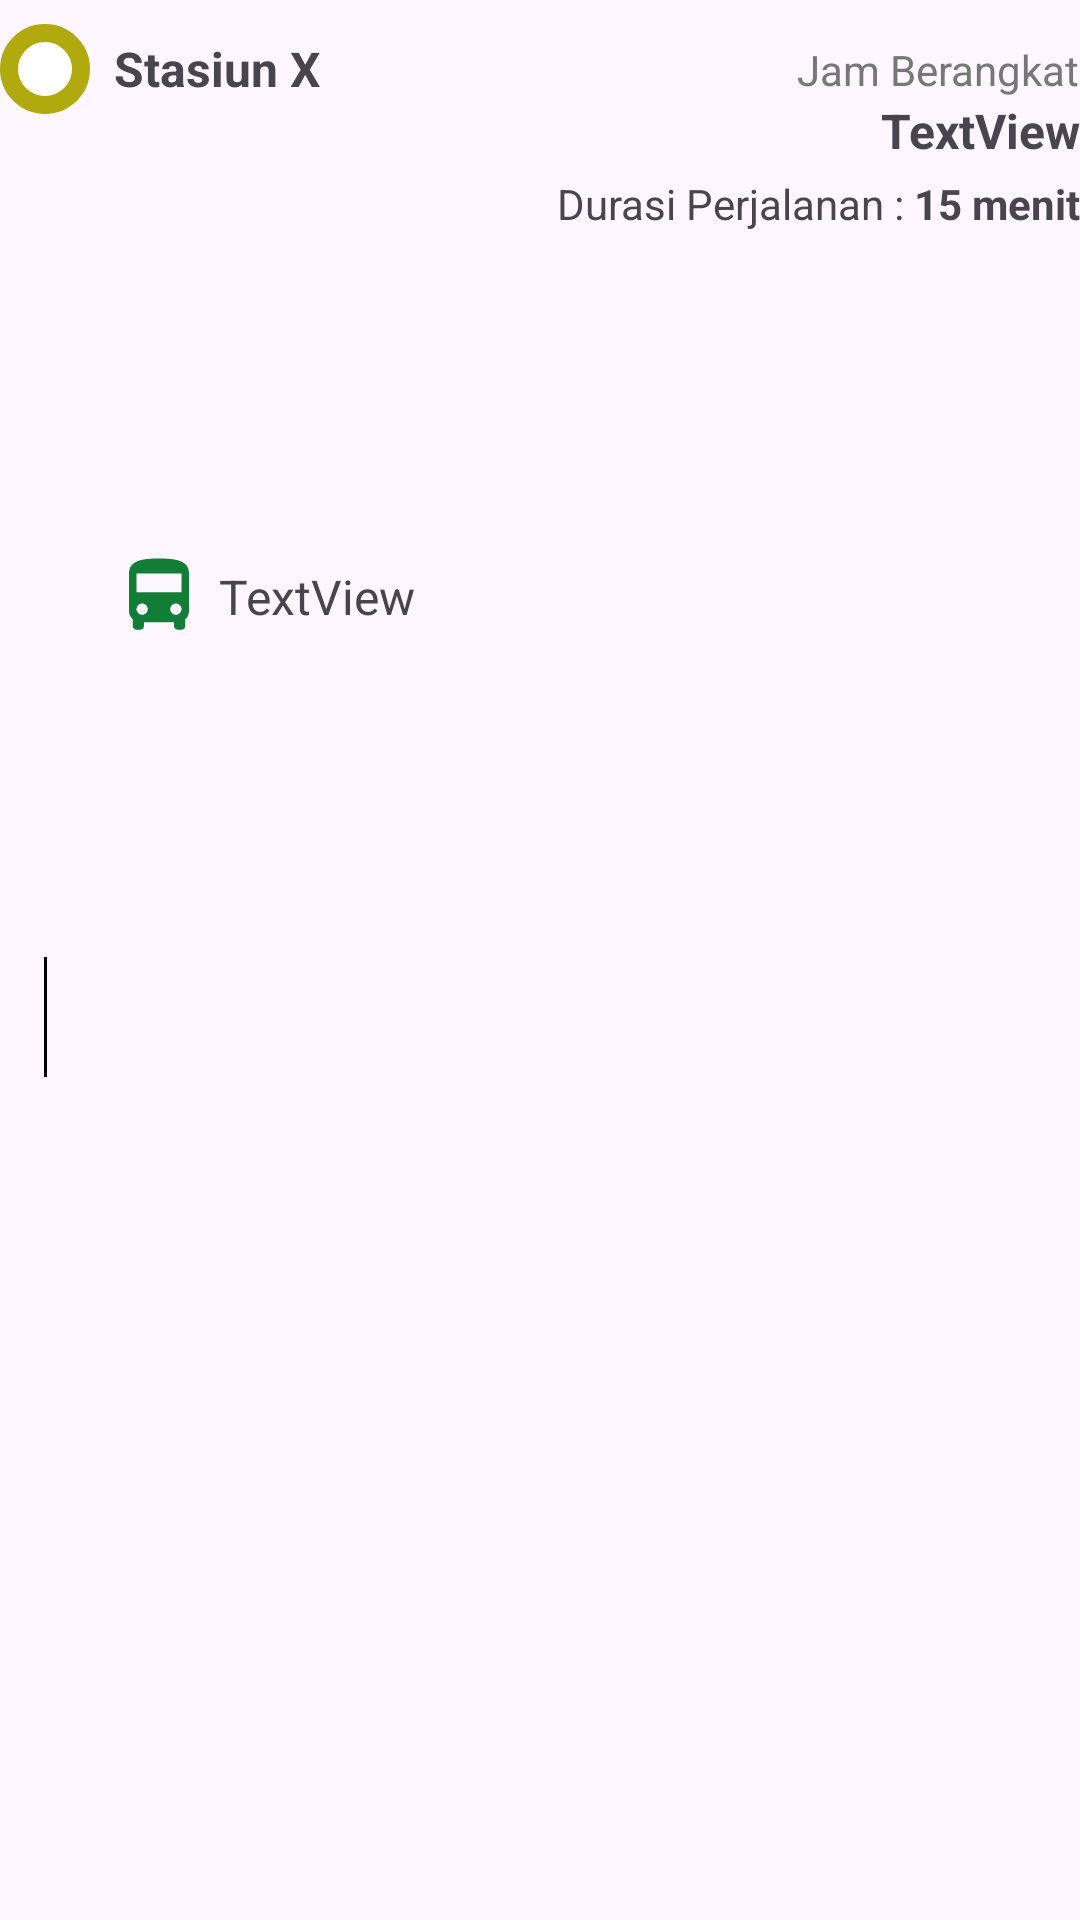

Where to tap for icons on this 1080 × 1920 app screen, as [x,y]:
bus: [159,594]
circle middle: [45,69]
